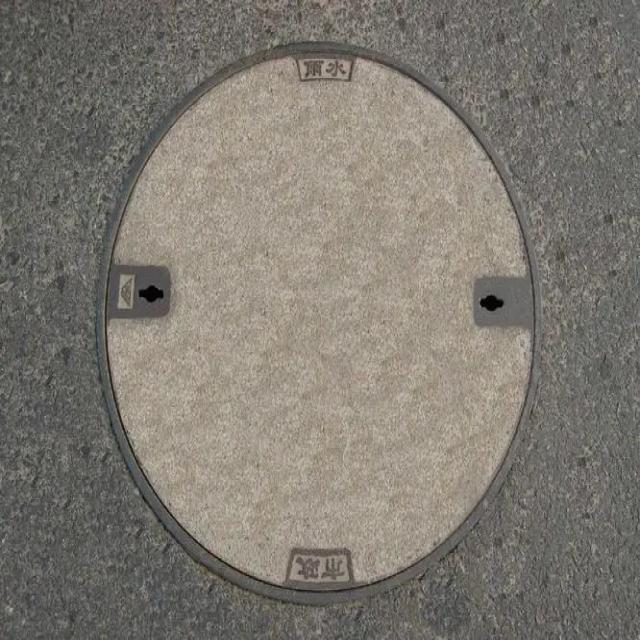manhole: (95, 42, 540, 608)
